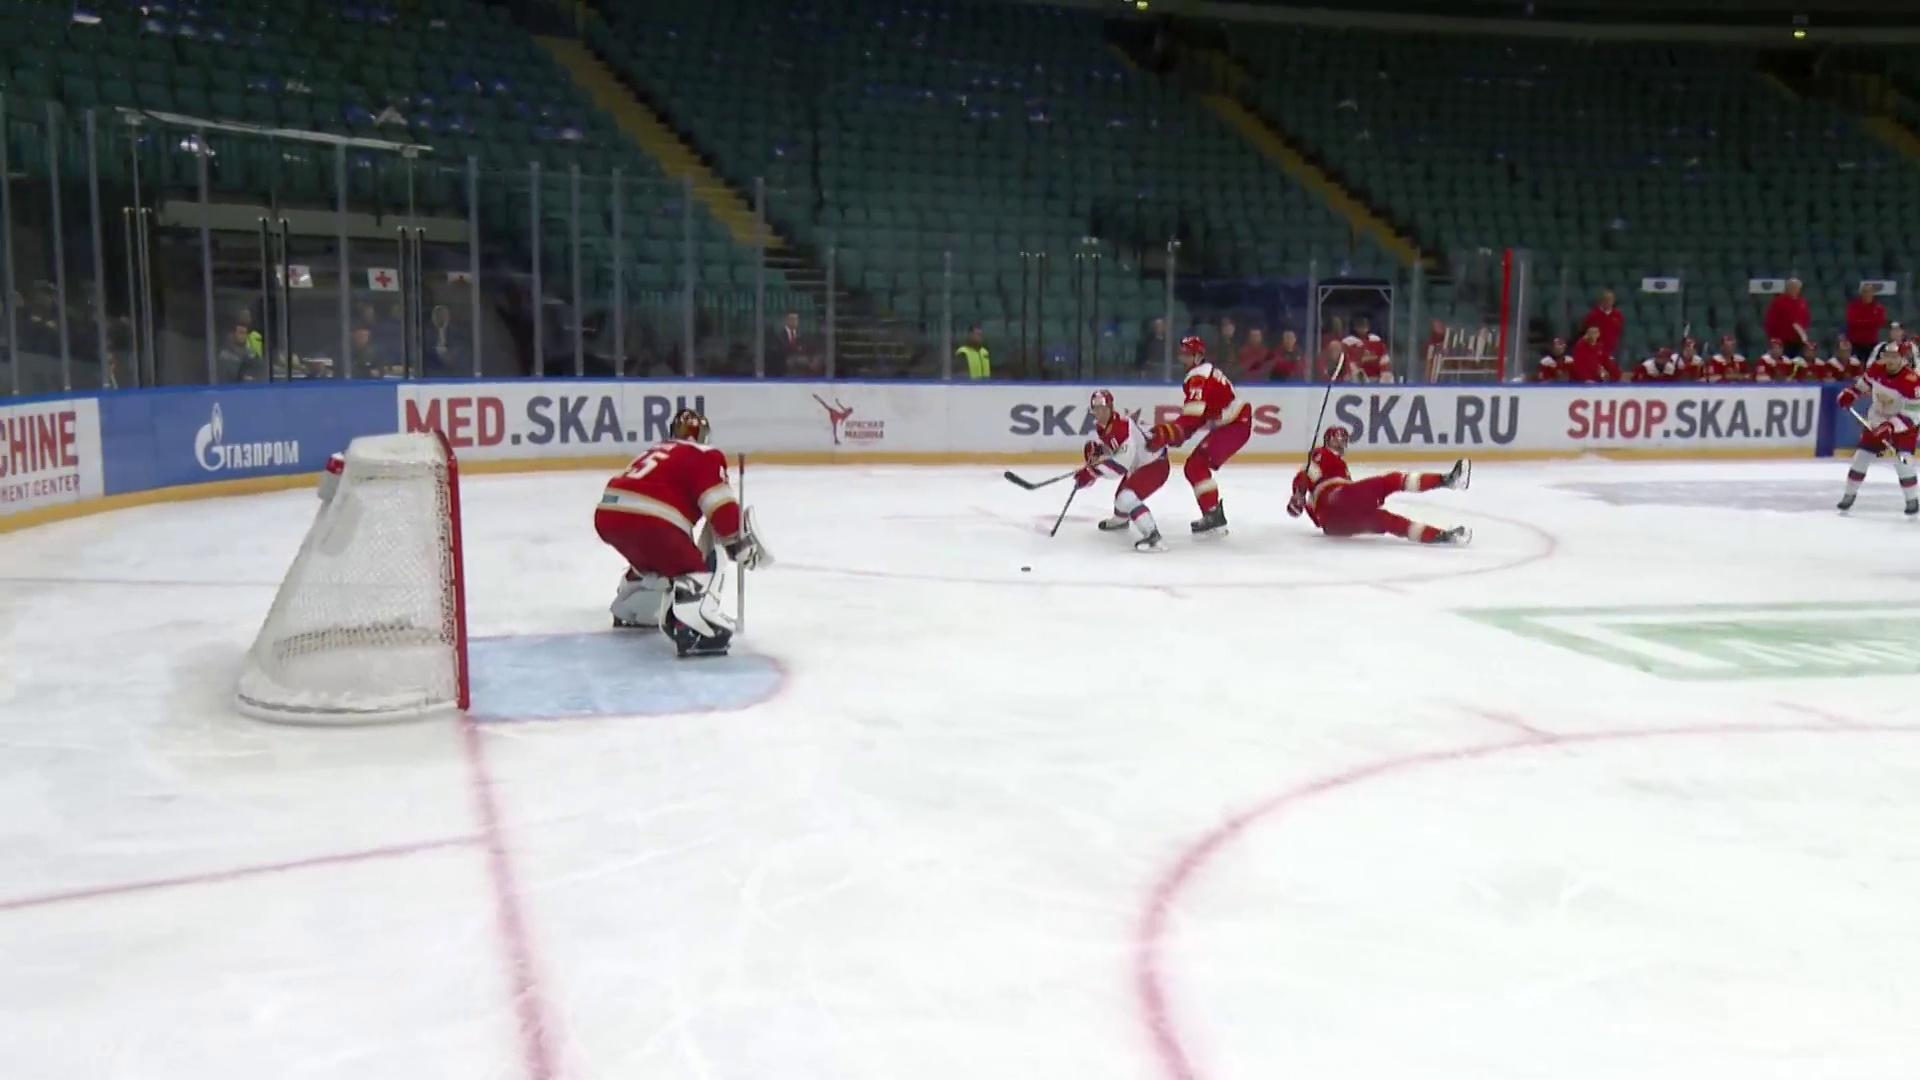ball: (1018, 566, 1034, 575)
